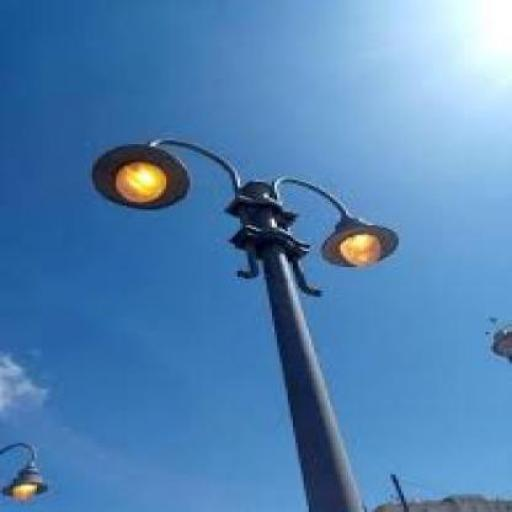street light: (90, 137, 401, 510)
